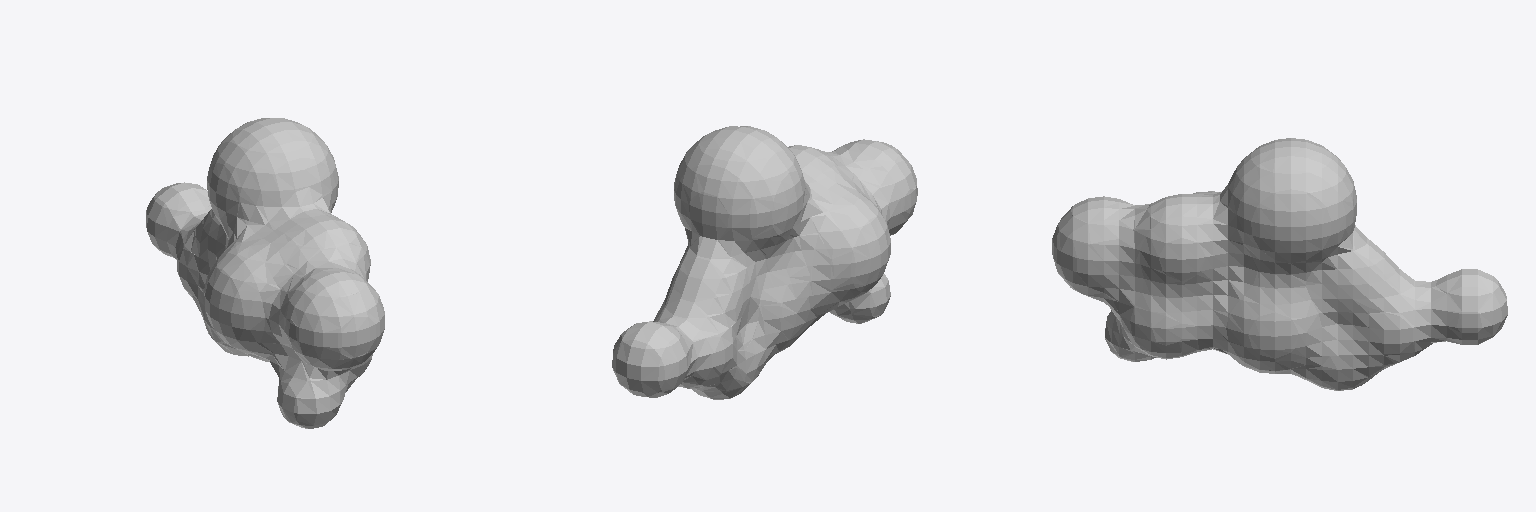
The picture shows the model from 3 angles: view 1: azimuth 30°, elevation 25°; view 2: azimuth 150°, elevation 25°; view 3: azimuth 270°, elevation 25°; orthographic projection.
Visible parts, largest first — view 1: Mball.013; view 2: Mball.013; view 3: Mball.013.
Boxes of the visible parts, x1=… form: Mball.013: x1=146, y1=118, x2=384, y2=428; Mball.013: x1=612, y1=126, x2=917, y2=399; Mball.013: x1=1052, y1=138, x2=1507, y2=390.
Size of the model in its own units: 3.28 by 4.83 by 8.12.